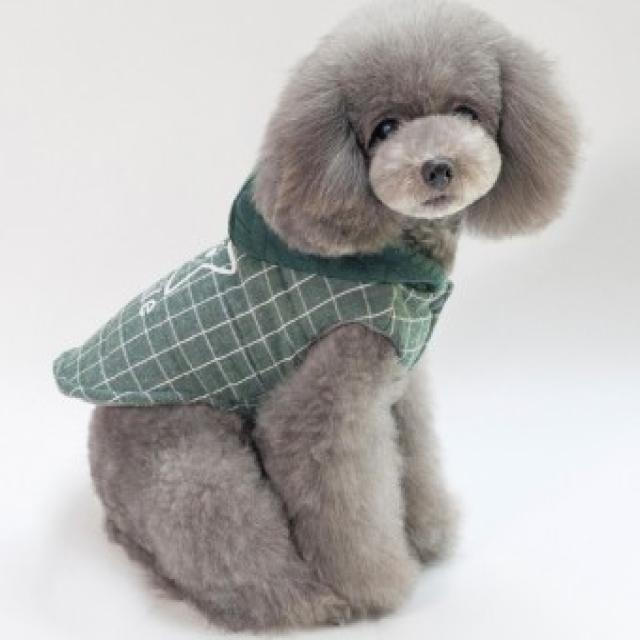cloth: (55, 180, 451, 414)
